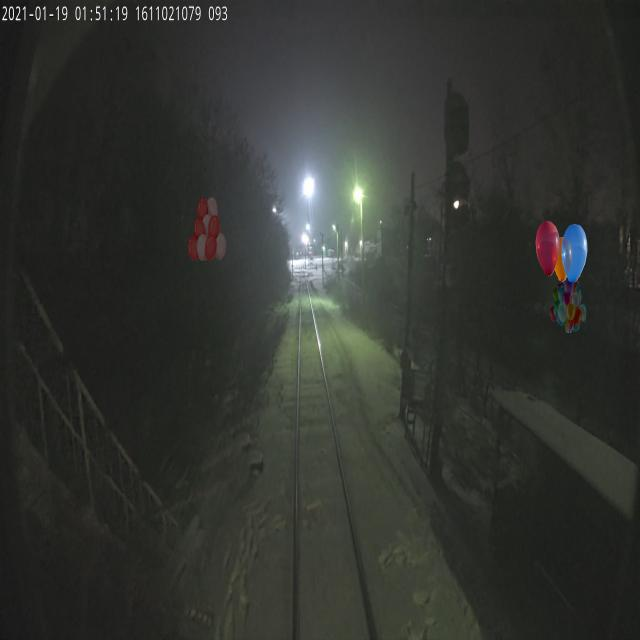balloon: (535, 220, 588, 284), (549, 269, 587, 333), (188, 197, 226, 260)
